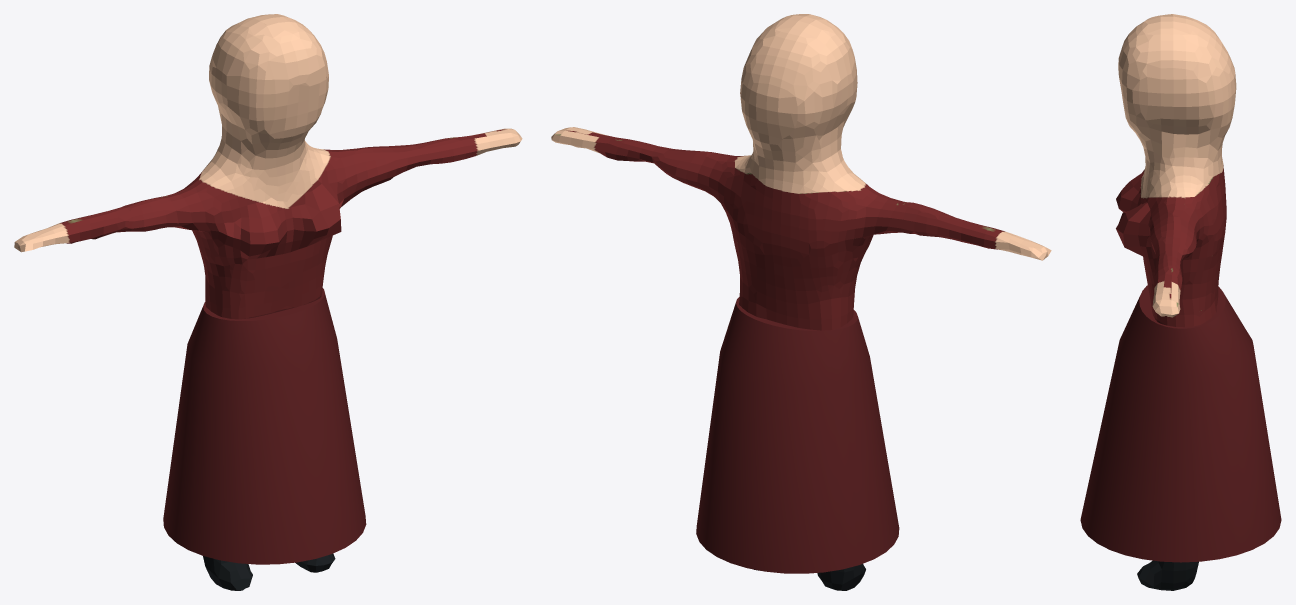
Rendered from woman_4.fbx.
The picture shows the model from 3 angles, left to right: view 1: azimuth 30°, elevation 25°; view 2: azimuth 150°, elevation 25°; view 3: azimuth 270°, elevation 25°; orthographic projection.
Parts seen in each view (by area): view 1: Woman_.004; view 2: Woman_.004; view 3: Woman_.004.
Part boxes in pixels (x1,y1,x2,y2): Woman_.004: [14, 14, 522, 590]; Woman_.004: [551, 14, 1051, 590]; Woman_.004: [1080, 14, 1281, 590].
Bounding box in the file's own units: 424 × 451 × 150.
Materials: 1 (1 with a texture image).
